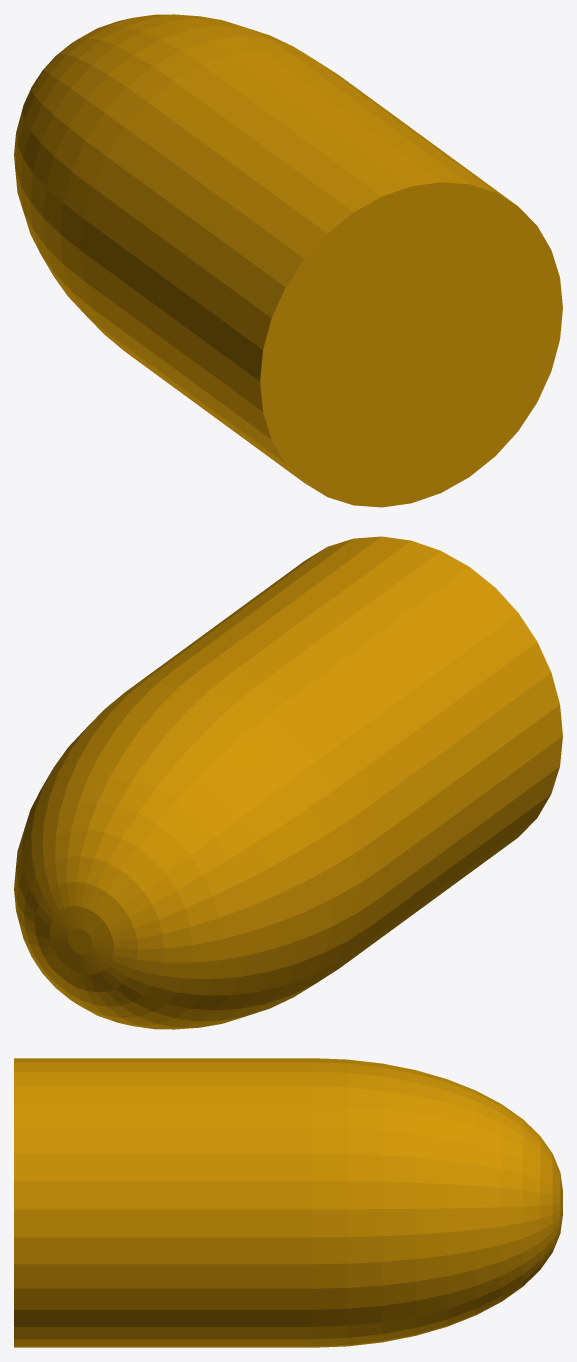
Rendered from Bullet.gltf.
The picture shows the model from 3 angles, top to bottom: view 1: azimuth 30°, elevation 25°; view 2: azimuth 150°, elevation 25°; view 3: azimuth 270°, elevation 25°; orthographic projection. The views are drawn at different scales.
Visible parts, largest first — view 1: Bullet; view 2: Bullet; view 3: Bullet.
Part boxes in pixels (bbox=[...]): Bullet: bbox=[14, 14, 562, 507]; Bullet: bbox=[14, 536, 562, 1029]; Bullet: bbox=[14, 1058, 562, 1347].
Size of the model in its own units: 0.3921 by 0.3921 by 0.7425.
